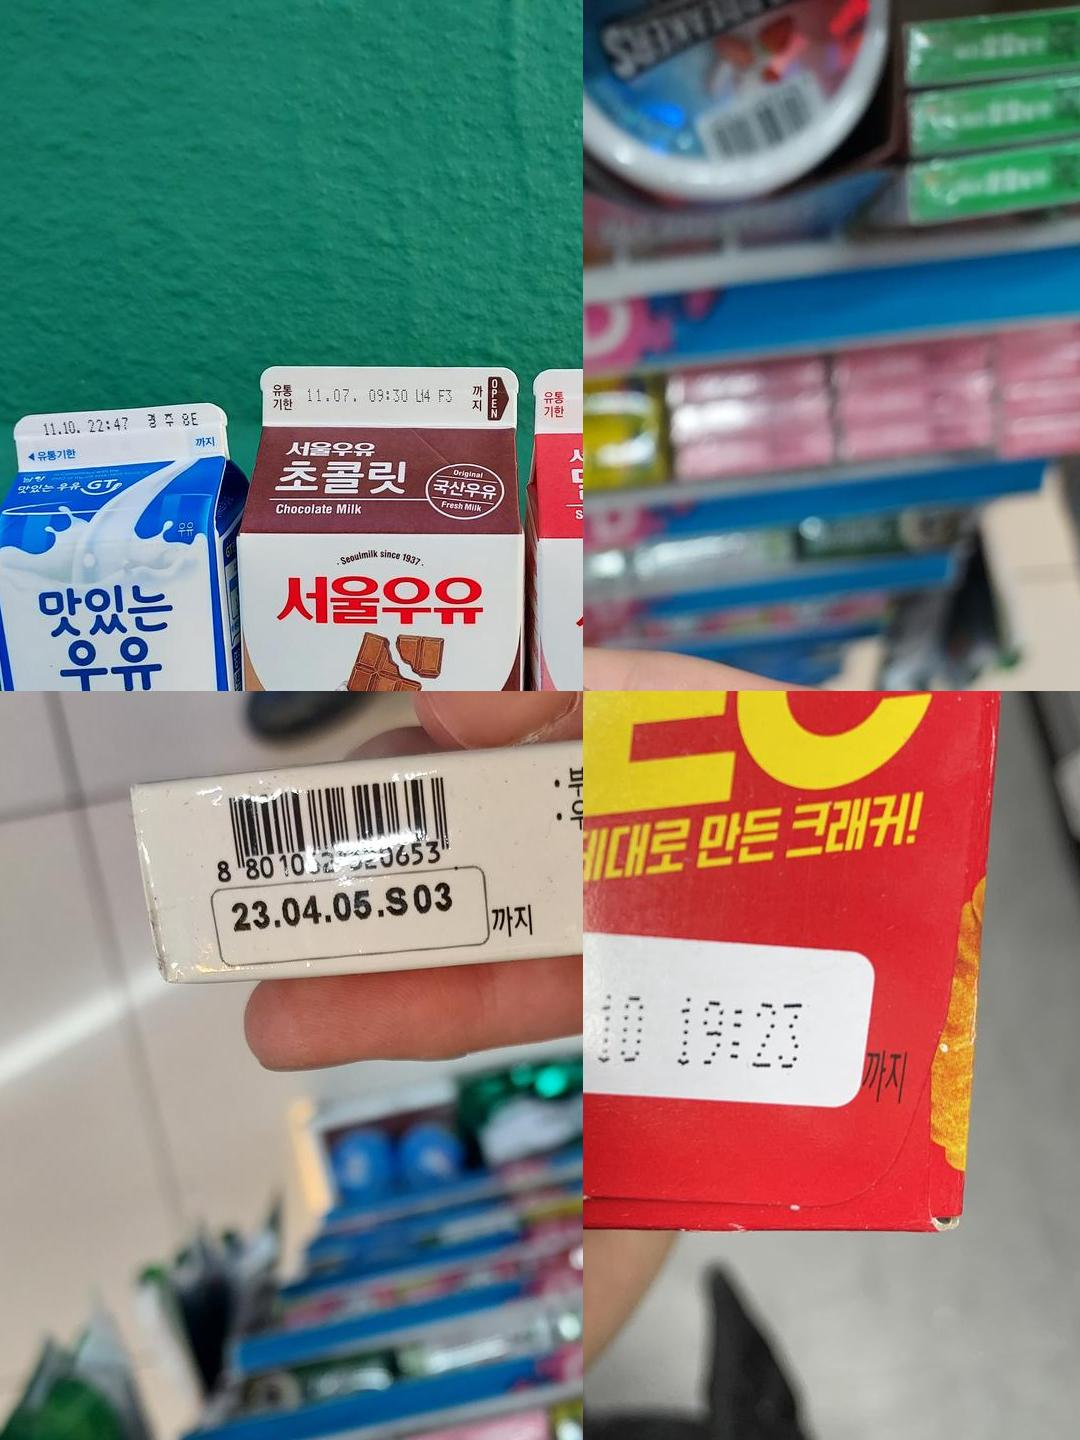gum: (211, 886, 487, 951)
milk: (256, 361, 517, 427), (10, 403, 226, 472)
snack food: (583, 915, 869, 1107)
